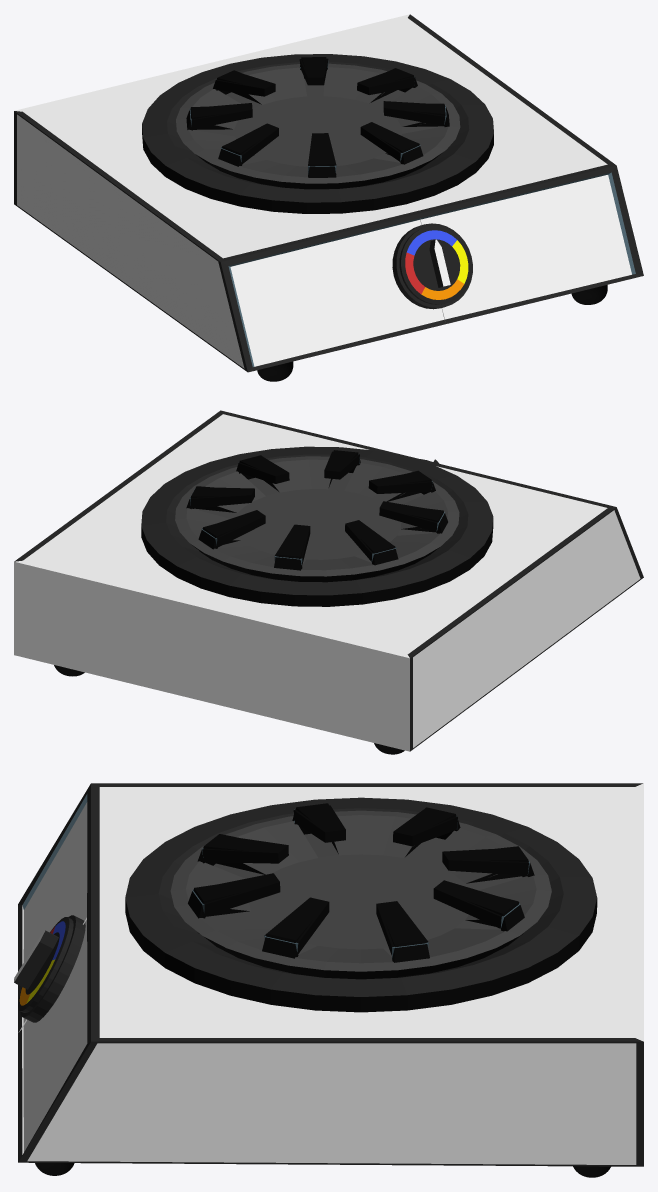
Rendered from gasstove.fbx.
3 views of the same model, one above another, from view 1: azimuth 30°, elevation 25°; view 2: azimuth 150°, elevation 25°; view 3: azimuth 270°, elevation 25° (orthographic). The views are drawn at different scales.
Visible parts, largest first — view 1: Stove1, Stove2, Stove3, Stove4; view 2: Stove1, Stove2; view 3: Stove1, Stove2, Stove3, Stove4.
Part boxes in pixels (left/top/right/bottom): Stove1: left=14, top=14, right=643, bottom=381; Stove2: left=142, top=54, right=493, bottom=213; Stove3: left=392, top=223, right=472, bottom=309; Stove4: left=429, top=239, right=450, bottom=287; Stove1: left=14, top=410, right=643, bottom=754; Stove2: left=141, top=446, right=493, bottom=606; Stove1: left=18, top=783, right=643, bottom=1177; Stove2: left=125, top=797, right=597, bottom=1012; Stove3: left=18, top=915, right=85, bottom=1022; Stove4: left=14, top=930, right=58, bottom=989.
Bounding box in the file's own units: 79.46 × 81.82 × 28.96.
2 materials, 2 textured.
